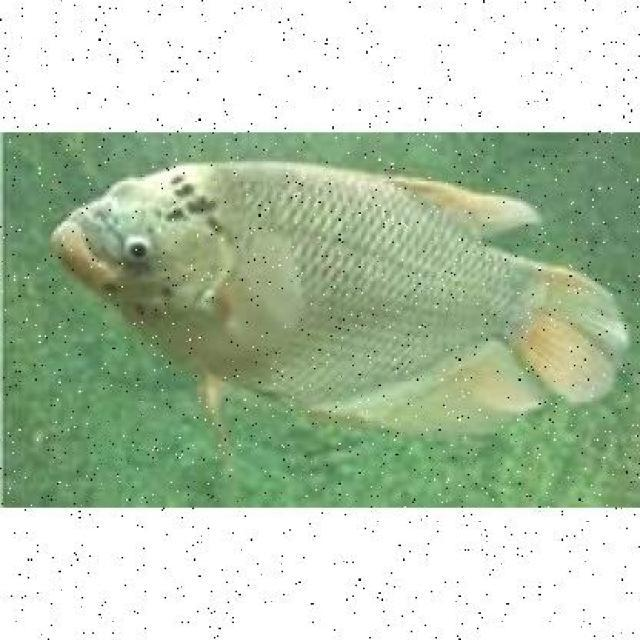gurame: (52, 156, 610, 438)
